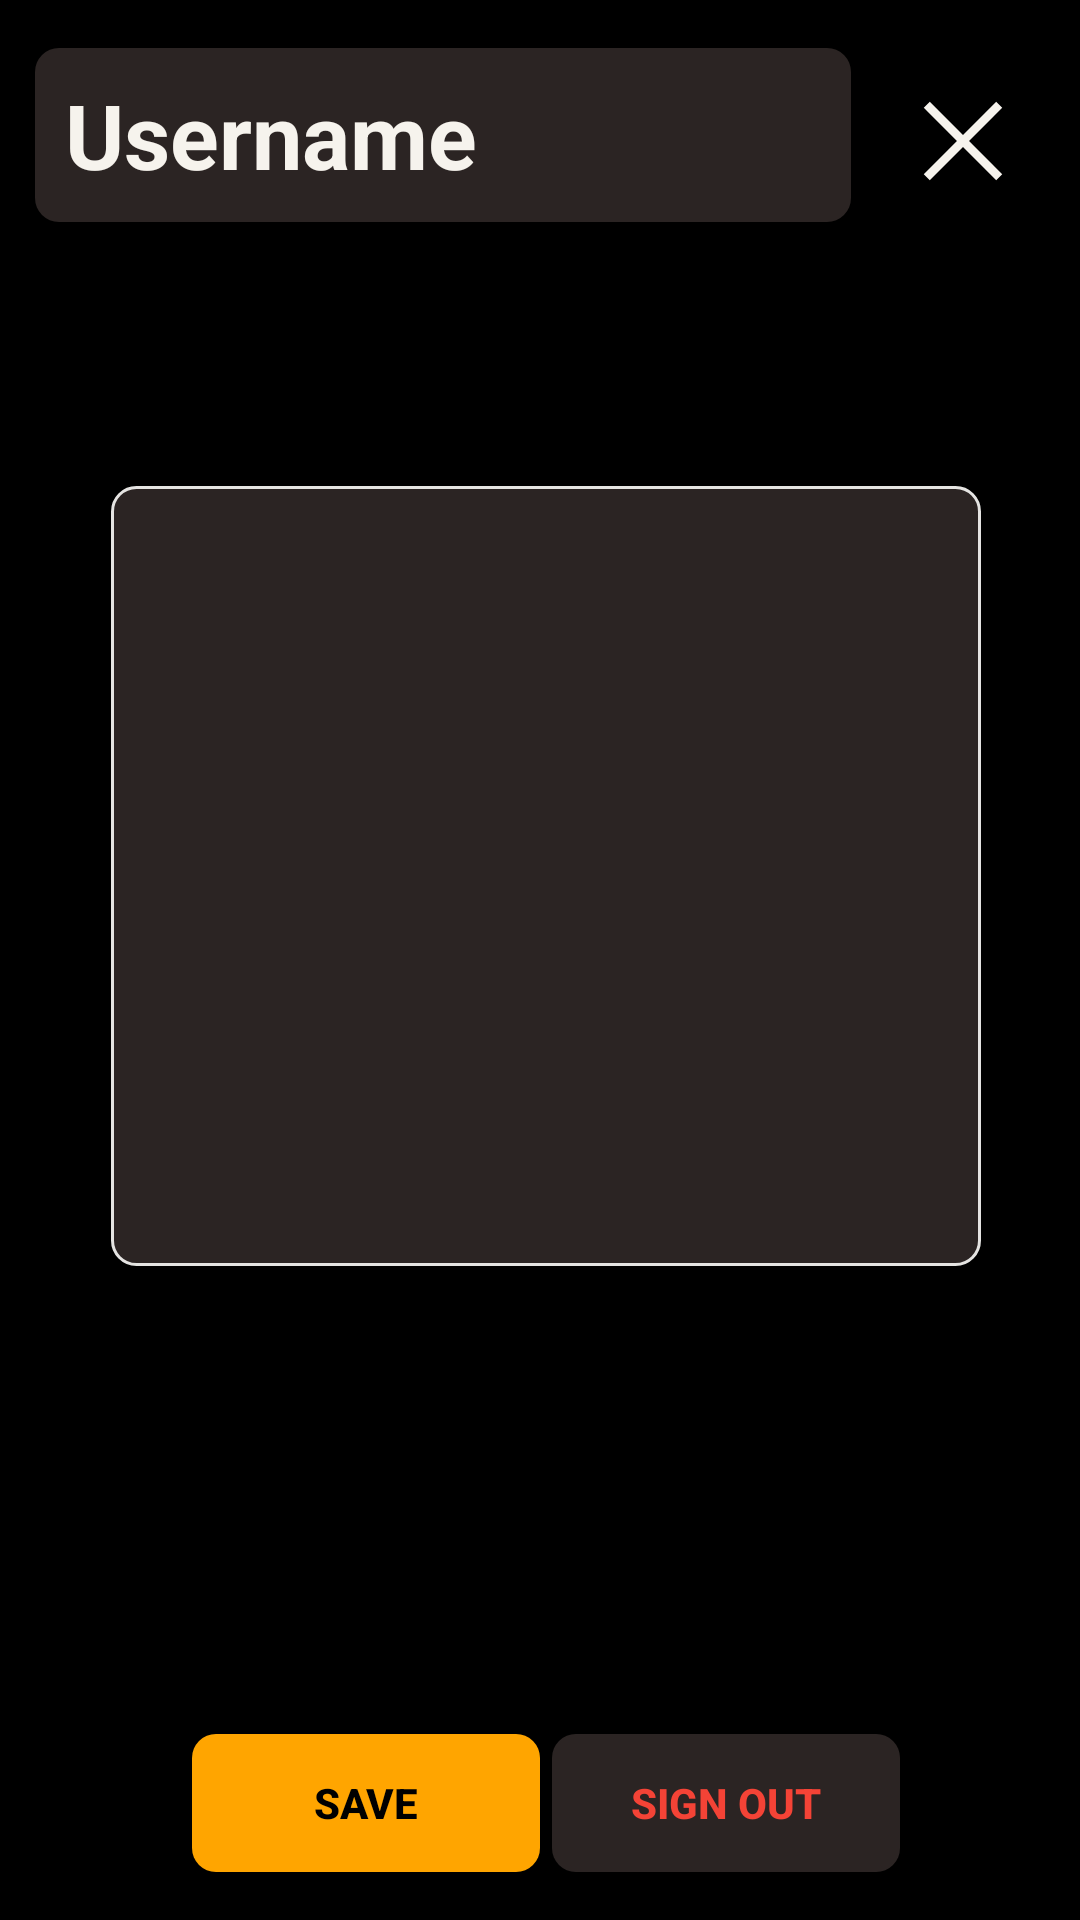

Where to tap for icons on this 1080 x 1920 app screen, as [x,y]:
close: [963,141]
